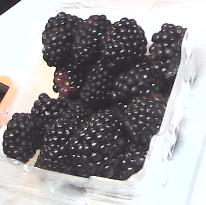berry: (67, 109, 127, 178), (111, 55, 162, 109), (98, 18, 146, 74), (123, 91, 166, 152), (77, 60, 124, 108), (32, 93, 72, 148), (34, 120, 75, 173), (41, 12, 81, 66), (149, 23, 186, 81), (70, 15, 111, 63), (53, 47, 88, 98), (2, 112, 38, 161)
